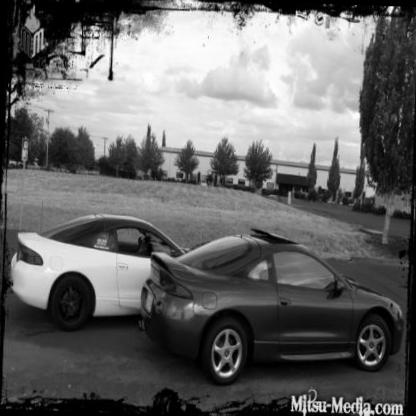car: (139, 214, 416, 390)
